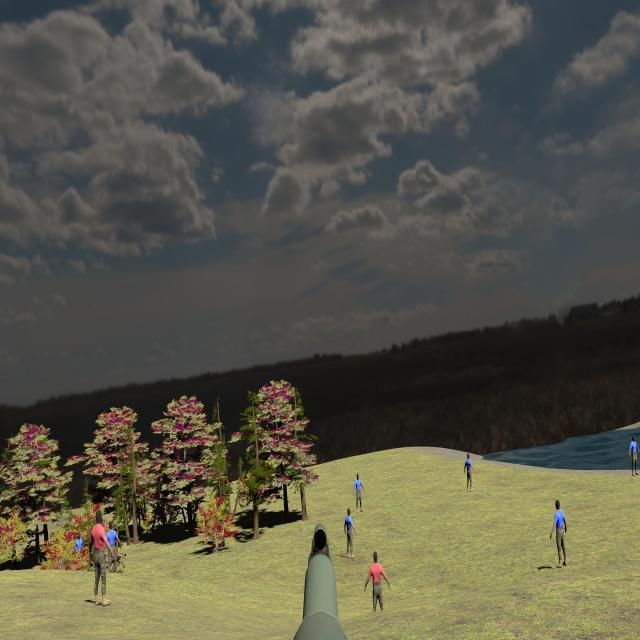Human: (90, 510, 114, 605), (364, 551, 391, 628), (550, 499, 567, 567), (104, 519, 121, 576), (344, 507, 357, 558), (353, 473, 366, 513)
